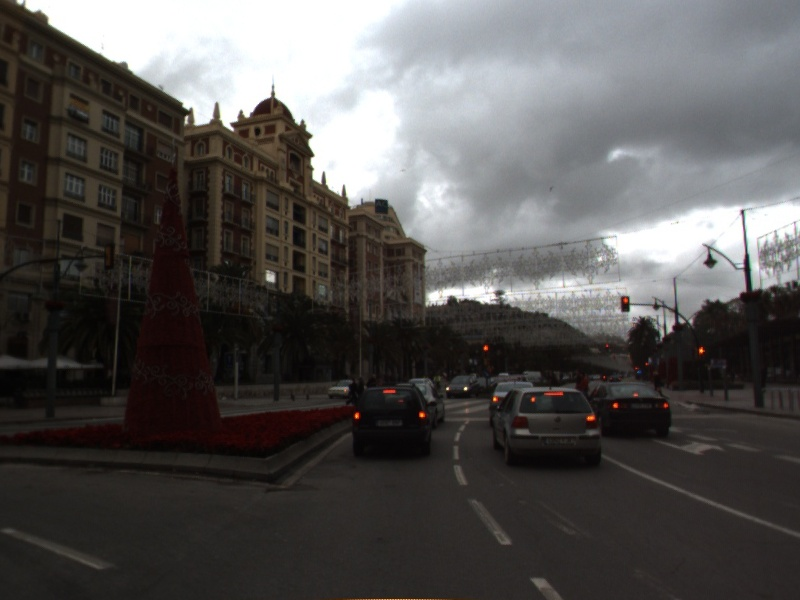STRAIGHT_RIGHT: (647, 434, 729, 458)
